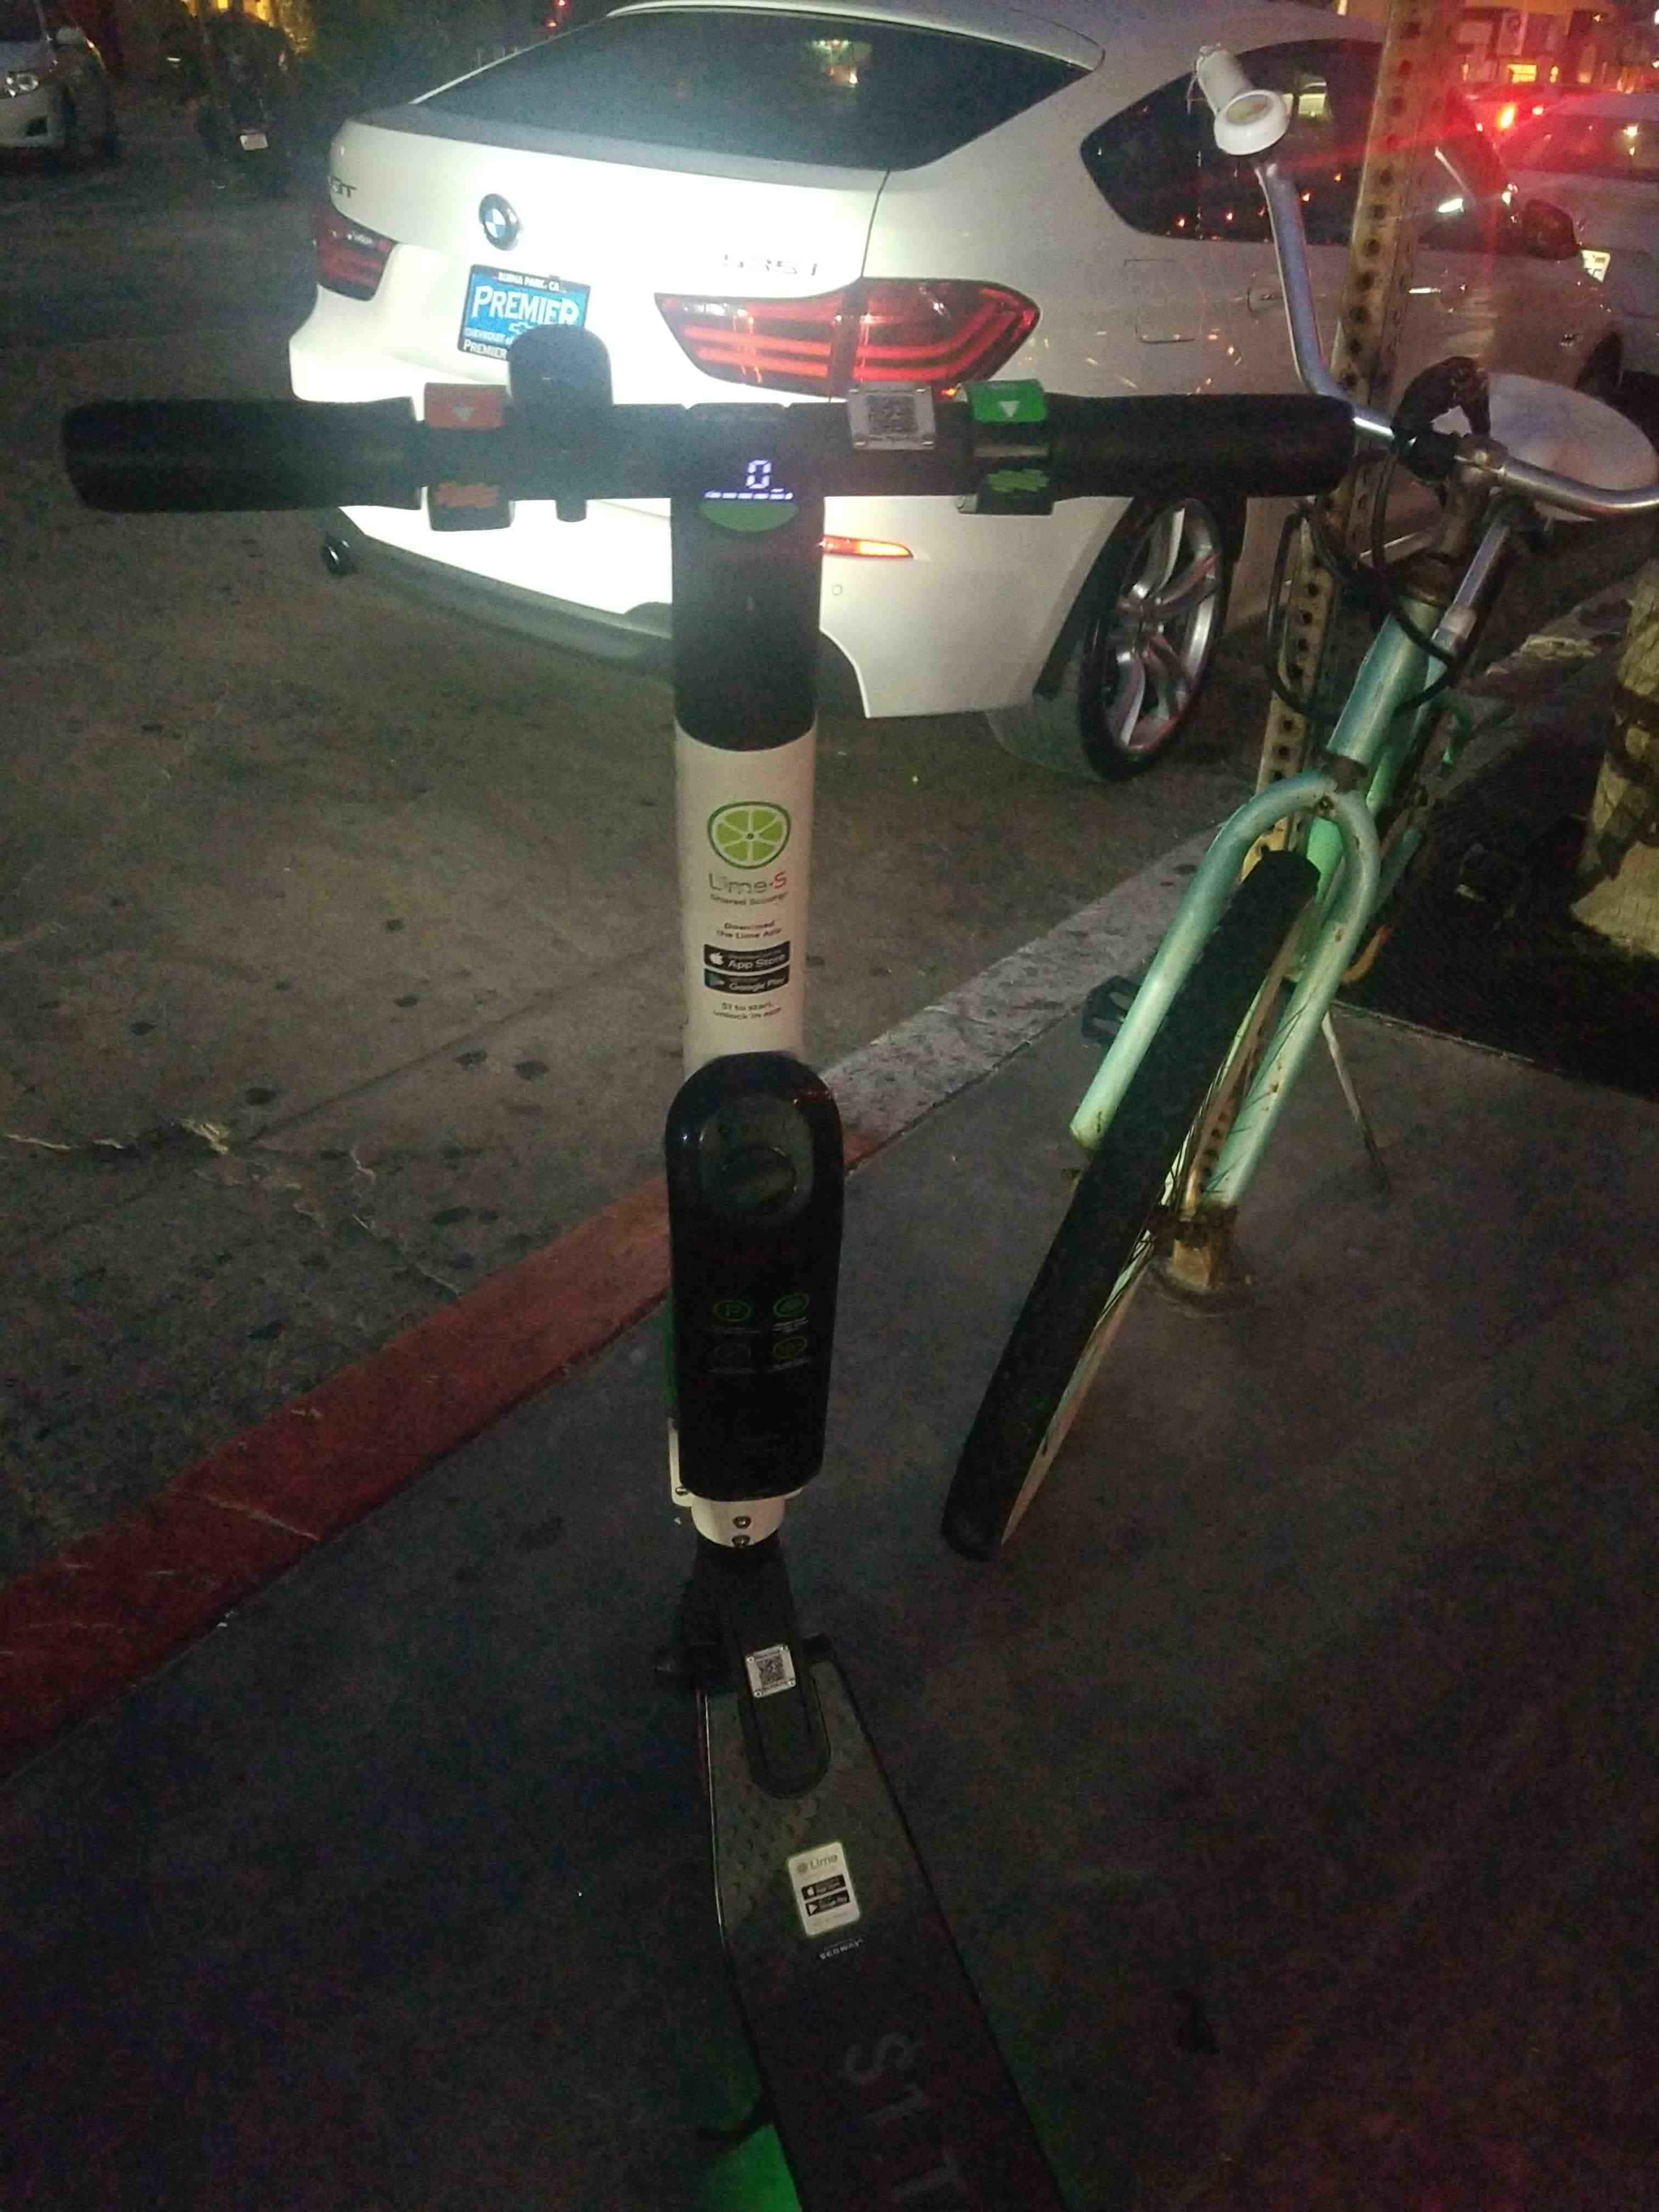scooter: (122, 266, 1563, 2212)
